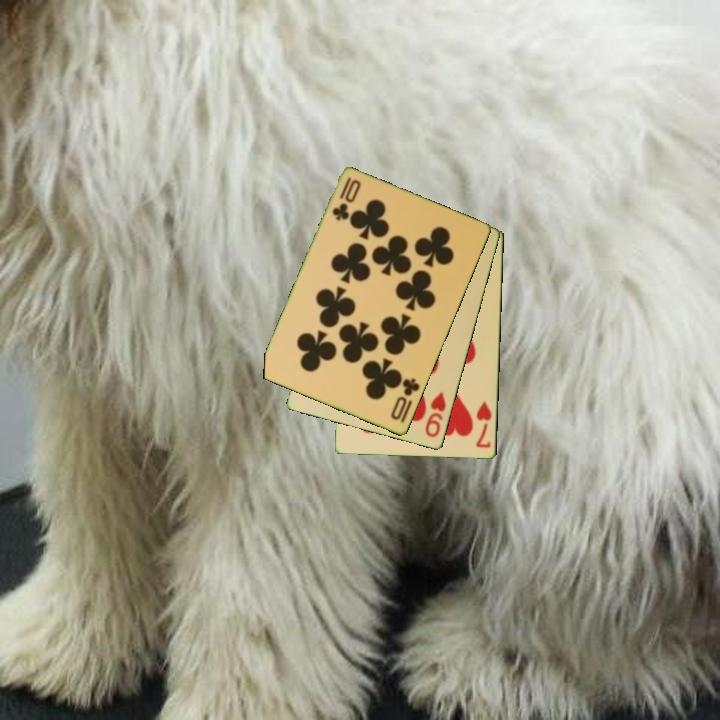10c: (329, 173, 364, 224), (387, 375, 423, 423)
7h: (473, 397, 495, 451)
9h: (422, 389, 449, 441)
